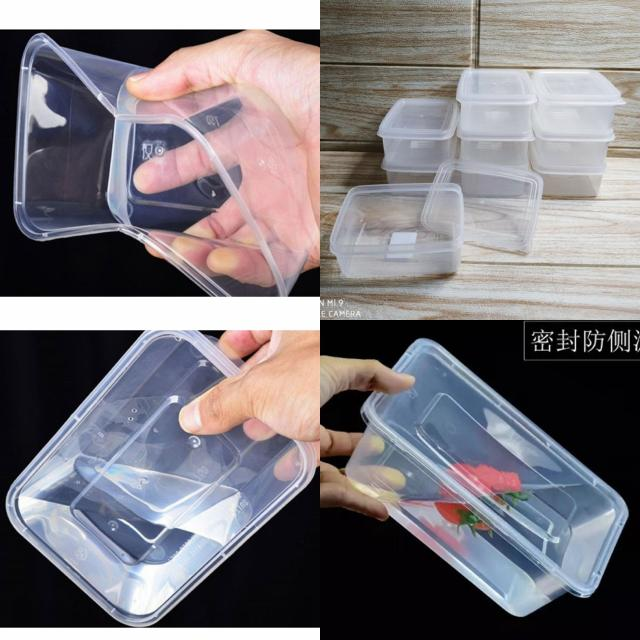Single-Use-Plastic: (6, 331, 315, 625), (14, 34, 314, 296), (346, 339, 628, 616), (330, 185, 464, 277), (421, 160, 542, 252), (531, 70, 625, 140), (378, 99, 459, 172), (456, 70, 536, 136)
